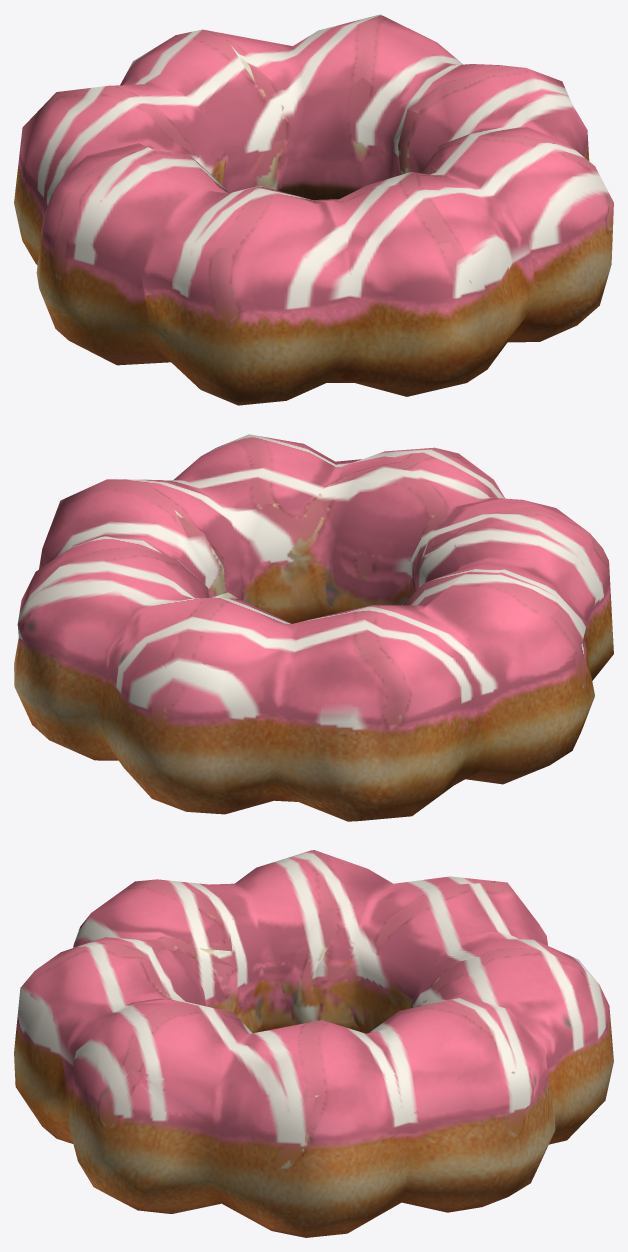
File: Food_Donut.fbx
3 renders of one model, top to bottom at view 1: azimuth 30°, elevation 25°; view 2: azimuth 150°, elevation 25°; view 3: azimuth 270°, elevation 25°, orthographic.
Parts seen in each view (by area): view 1: Food_Donut; view 2: Food_Donut; view 3: Food_Donut.
Boxes of the visible parts, x1,y1,x2,y2 form: Food_Donut: (14,14,613,405); Food_Donut: (14,434,613,821); Food_Donut: (14,850,613,1237).
Size of the model in its own units: 0.26 by 0.093 by 0.2585.
Materials: 1 (1 with a texture image).
